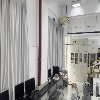fire: (72, 69, 75, 85)
